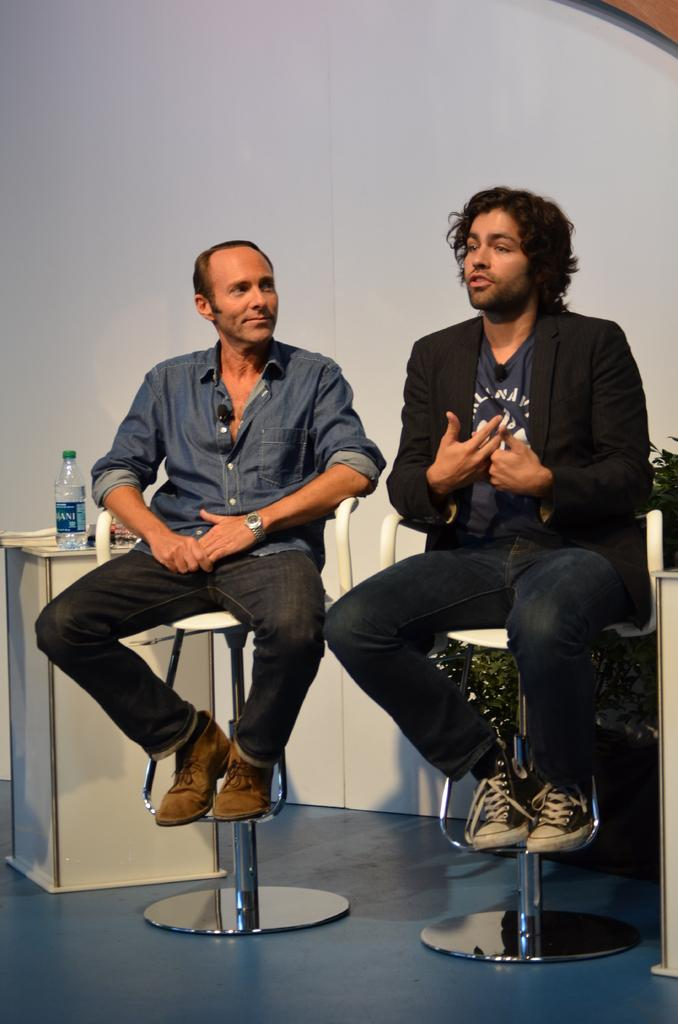Chair: (373, 506, 666, 966), (70, 468, 345, 927)
